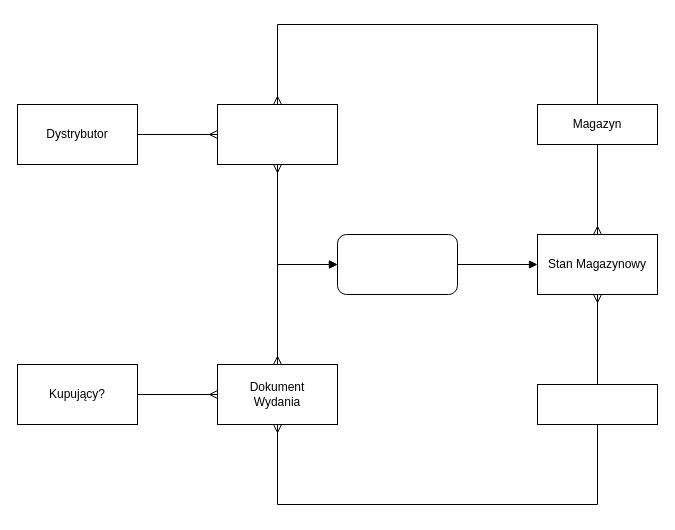
Some shapes in this 675 by 530 pixel diagram are drawn without their labels. The shapes that lost their labels are listed below. From the top down, each one's centre as x and y in pixels, then its label:
At (x=277, y=134): "Dokument Przyjęcia".
At (x=397, y=264): "After Insert Trigger".
At (x=597, y=404): "GPU".
